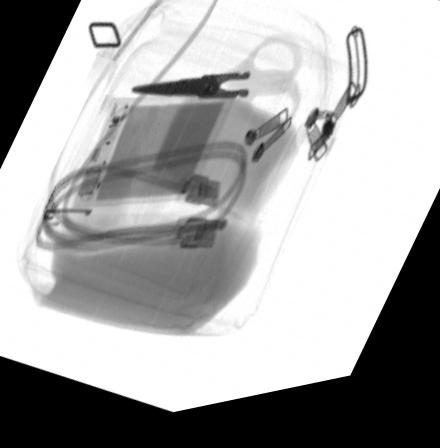Powerbank: (63, 98, 235, 218)
Scissors: (126, 46, 301, 146)
